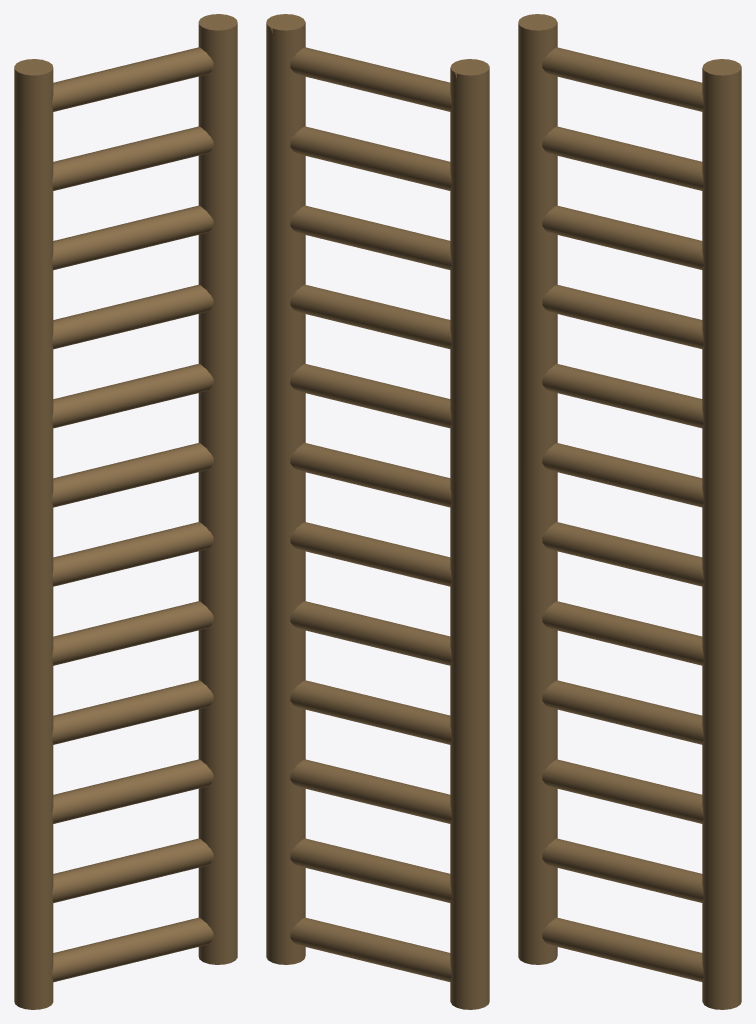
The model's file is ladder.fbx.
The picture shows the model from 3 angles, left to right: view 1: azimuth 30°, elevation 25°; view 2: azimuth 150°, elevation 25°; view 3: azimuth 330°, elevation 25°; orthographic projection.
Visible parts, largest first — view 1: Cylinder; view 2: Cylinder; view 3: Cylinder.
Part boxes in pixels (x1,y1,x2,y2): Cylinder: (14,14,237,1009); Cylinder: (266,14,489,1009); Cylinder: (518,14,741,1009).
Size of the model in its own units: 82.75 by 339 by 12.75.
